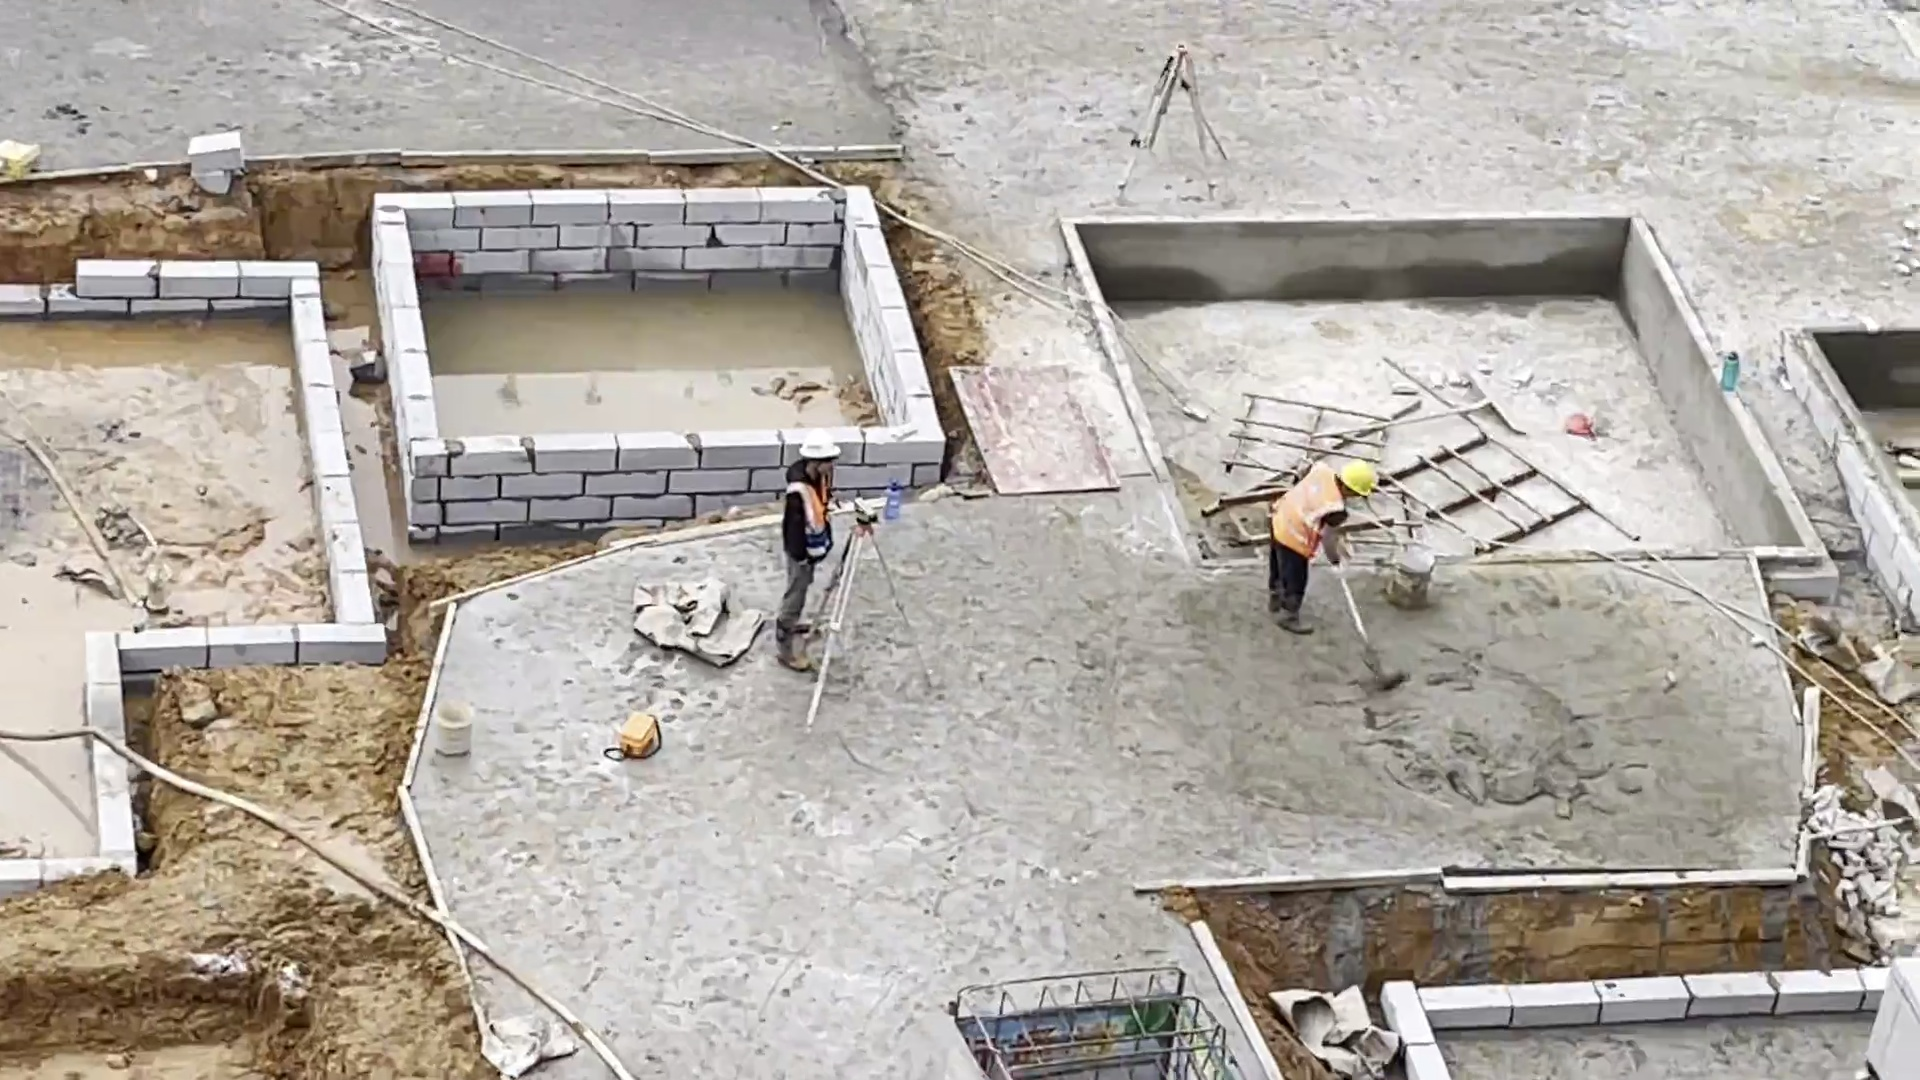helmet: (1333, 450, 1382, 500), (794, 431, 849, 462)
person: (1273, 428, 1376, 637), (782, 427, 855, 681)
vest: (1274, 467, 1340, 568), (792, 473, 844, 565)
